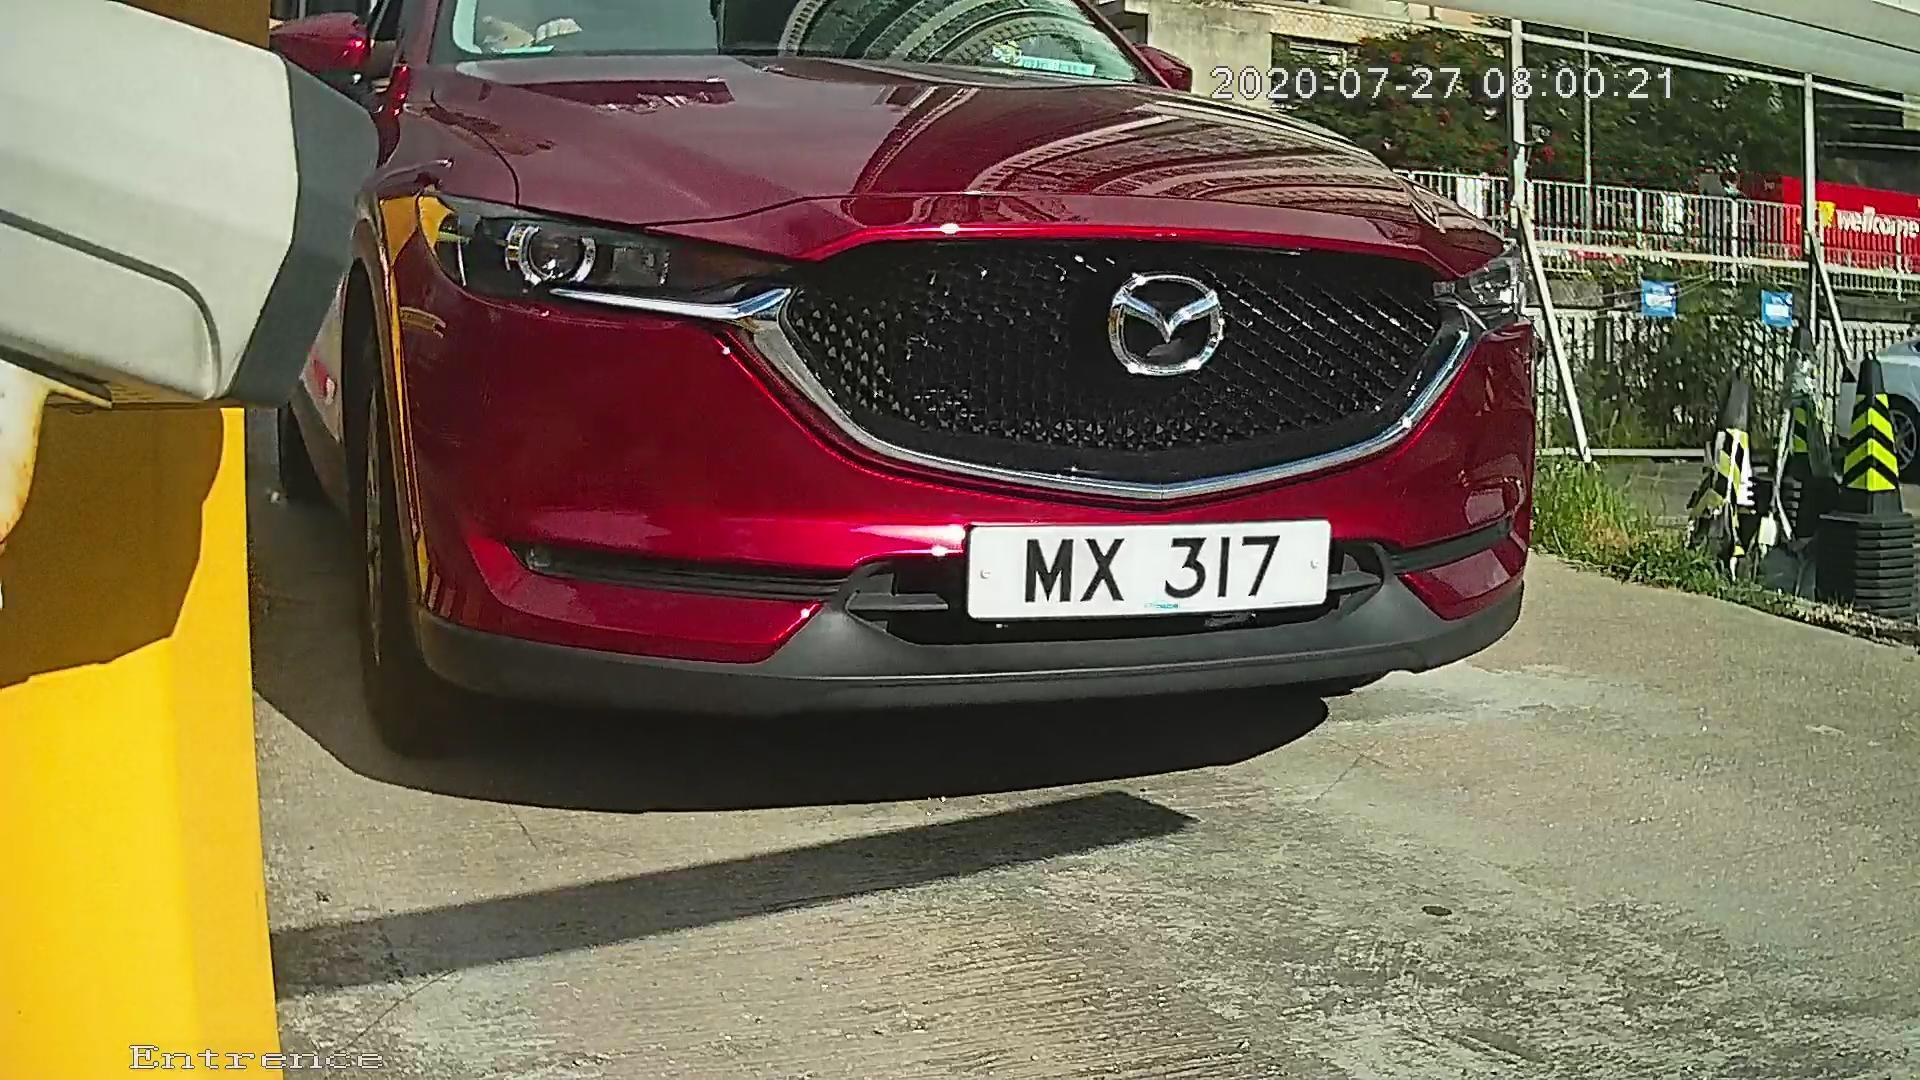Car: (103, 63, 1621, 878)
License Plate: (918, 492, 1355, 637)
